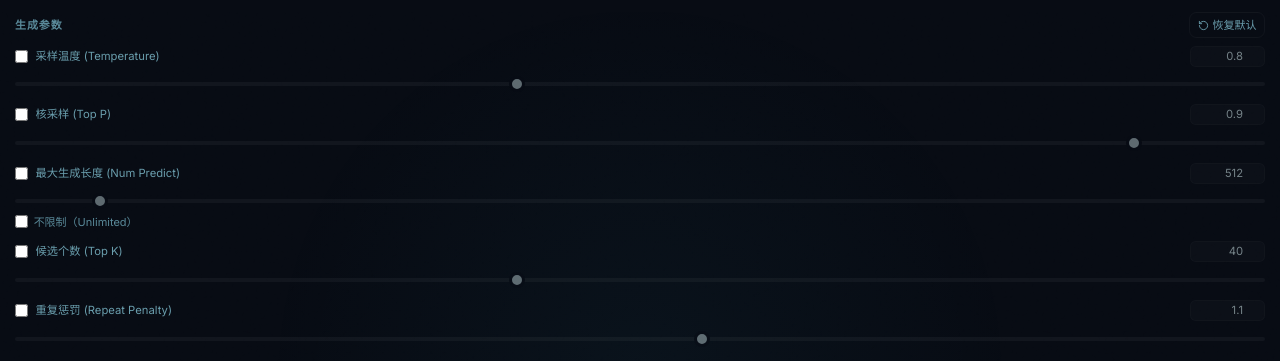
Test: ParamPanel › echoes a clamped value when an out-of-range number is entered (2.1)
The image size is (1280, 361).
// 启用 temperature
Click the checkbox with test id "param-toggle-temperature": (22, 56) [15,50,28,62]
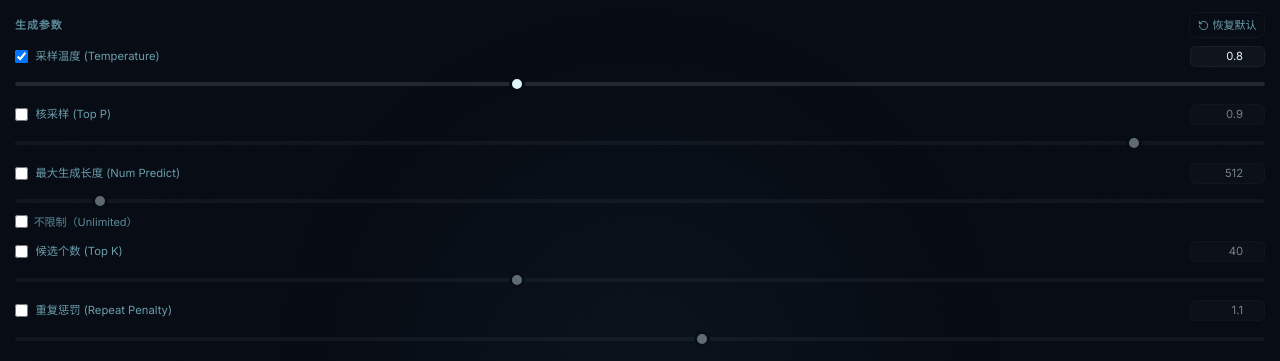
// 输入越界值 9 → 钳制回显为 2
Replace the text in the number field with test id "param-number-temperature" with "9": (1228, 56) [1190,46,1265,66]
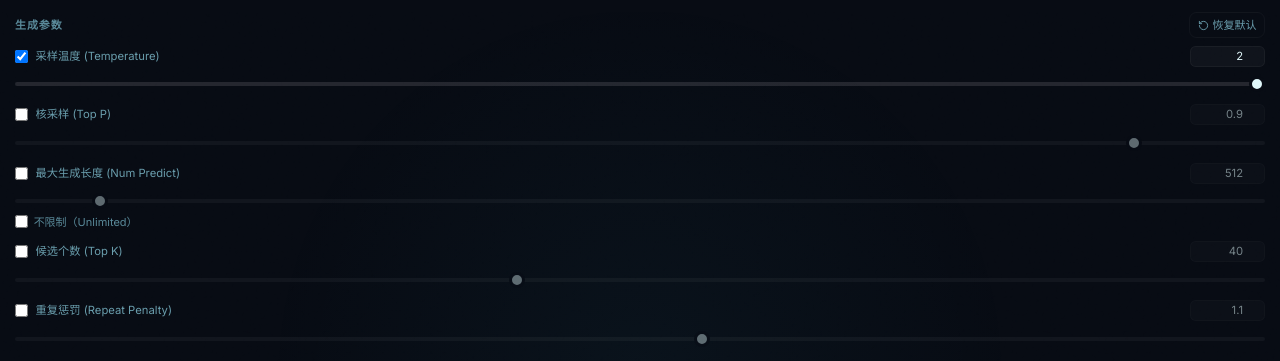
Now the number field with test id "param-number-temperature" holds "2", box [1190,46,1265,66]
